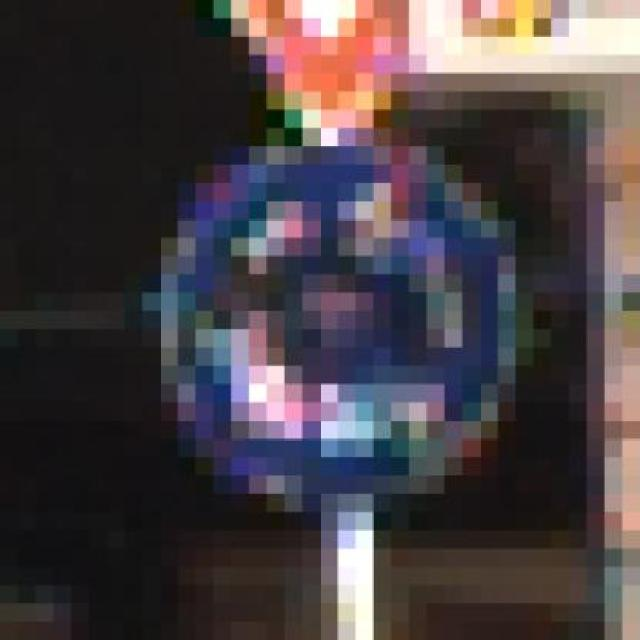Round-About: (124, 146, 551, 531)
